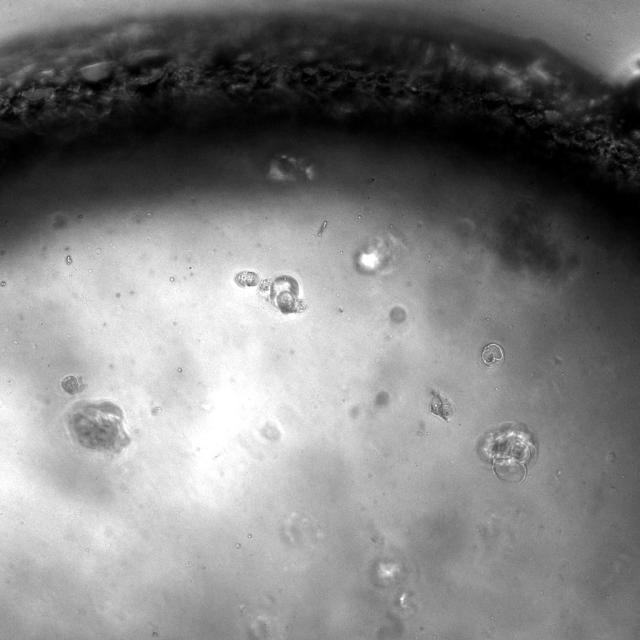organoid: (492, 202, 568, 275), (477, 422, 537, 483), (64, 400, 131, 454), (234, 269, 306, 313), (353, 234, 405, 274), (267, 154, 316, 183), (430, 389, 454, 422), (479, 343, 504, 369), (61, 375, 86, 395), (391, 306, 406, 323), (376, 391, 389, 405)
